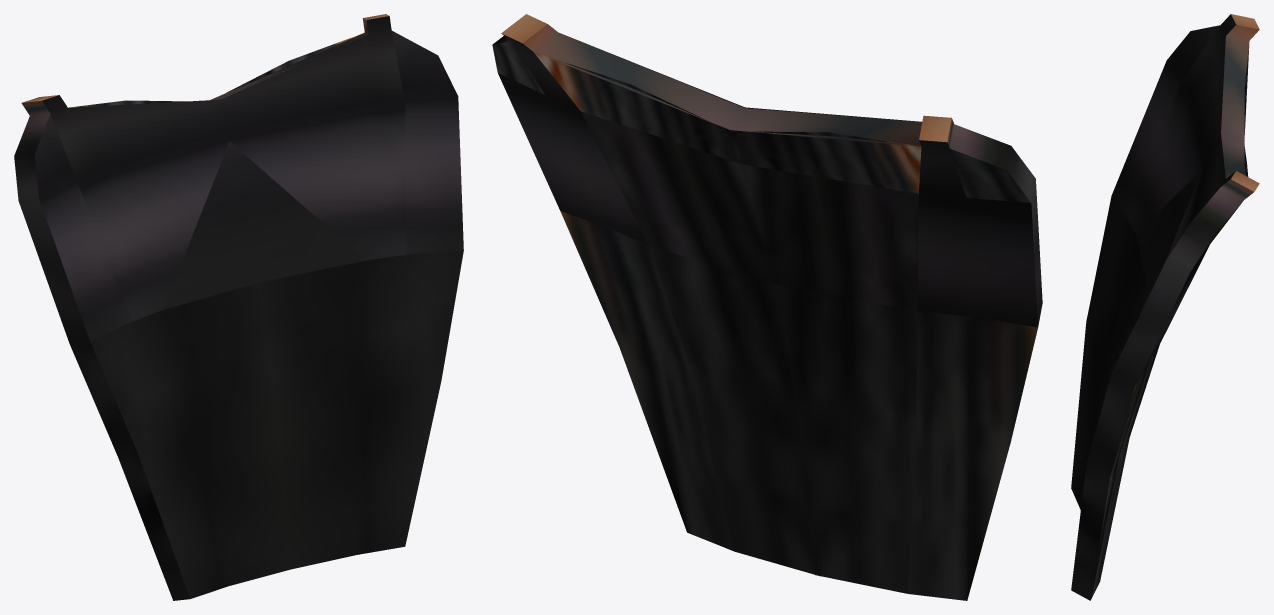
The model's file is xion_isw_e_armor_back_2.dae.
3 renders of one model, left to right at view 1: azimuth 30°, elevation 25°; view 2: azimuth 150°, elevation 25°; view 3: azimuth 270°, elevation 25°, orthographic. The views are drawn at different scales.
Parts seen in each view (by area): view 1: m_armor_dress_short_med_sleeves_b; view 2: m_armor_dress_short_med_sleeves_b; view 3: m_armor_dress_short_med_sleeves_b.
Part boxes in pixels (x1,y1,x2,y2): m_armor_dress_short_med_sleeves_b: (14, 14, 463, 600); m_armor_dress_short_med_sleeves_b: (492, 14, 1042, 600); m_armor_dress_short_med_sleeves_b: (1071, 14, 1259, 600).
Size of the model in its own units: 1.1 by 0.4232 by 1.12.
